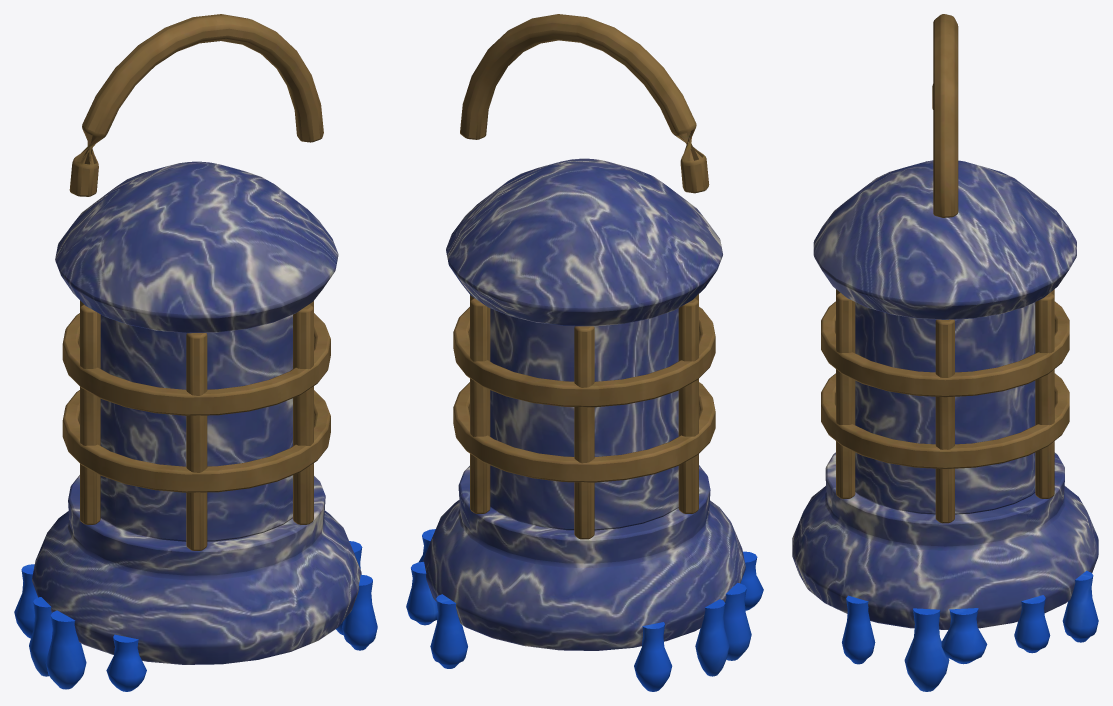
Rendered from lantern.glb.
3 renders of one model, left to right at view 1: azimuth 30°, elevation 25°; view 2: azimuth 150°, elevation 25°; view 3: azimuth 270°, elevation 25°, orthographic. The views are drawn at different scales.
Parts seen in each view (by area): view 1: lantern; view 2: lantern; view 3: lantern.
Part boxes in pixels (x1,y1,x2,y2): lantern: [14, 14, 377, 691]; lantern: [406, 14, 763, 691]; lantern: [792, 14, 1098, 691].
Bounding box in the file's own units: 0.2865 × 0.55 × 0.2537.
Materials: 1 (1 with a texture image).
